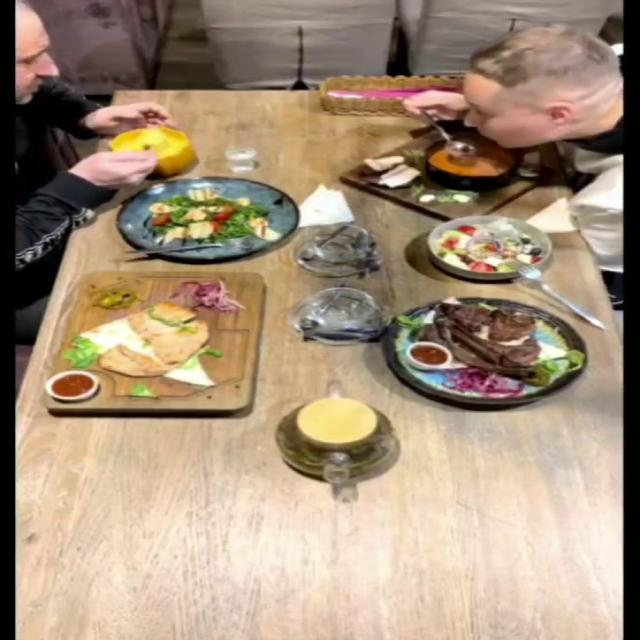alcohol: (205, 127, 284, 178)
meat: (380, 296, 589, 405)
salat: (114, 177, 297, 261), (426, 214, 554, 279)
soup: (337, 126, 562, 220), (109, 125, 198, 176)
tea: (296, 396, 377, 446)
